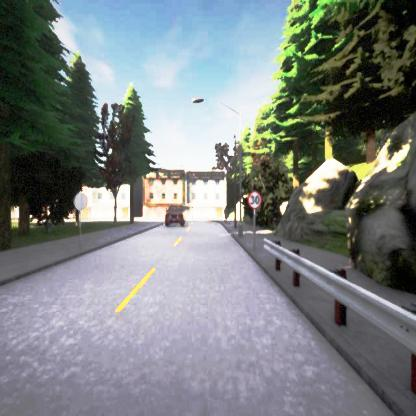vehicle: (164, 206, 184, 226)
